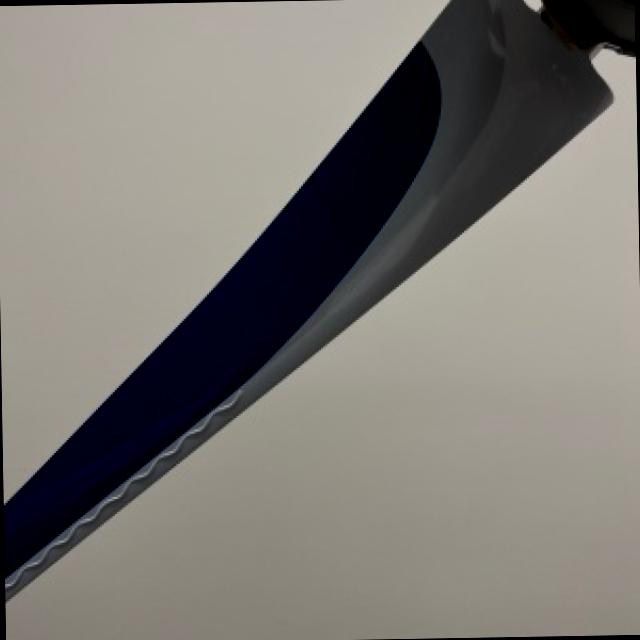healthy: (6, 50, 640, 640)
